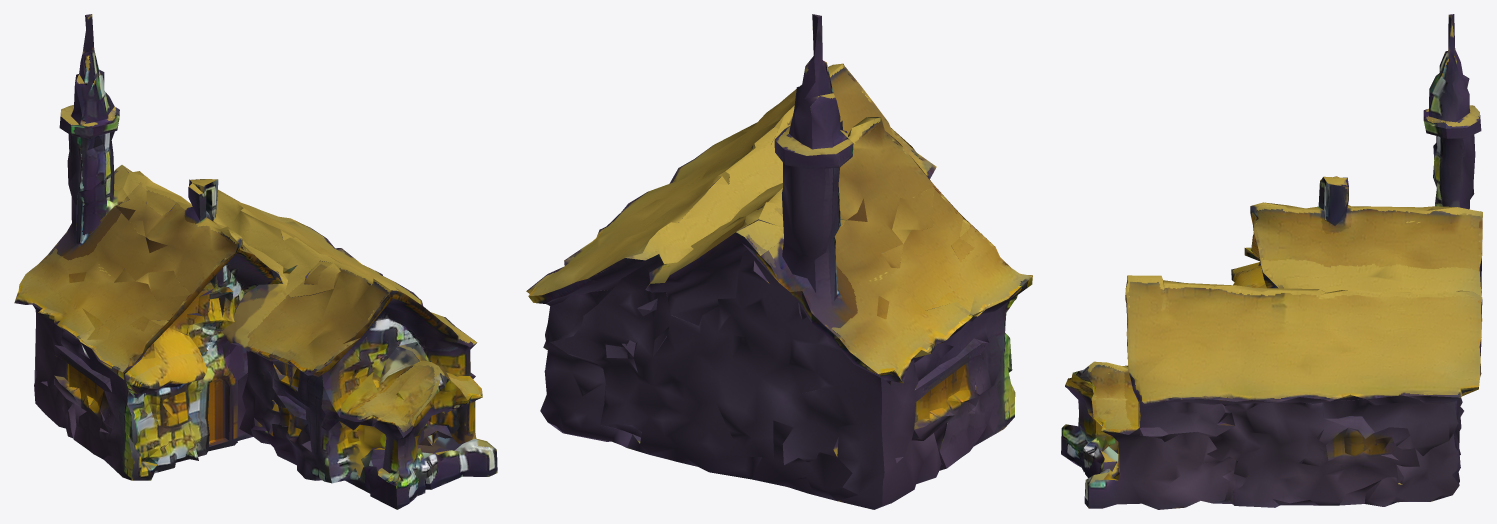
The model's file is cottage_medieval.glb.
3 views of the same model, side by side, from view 1: azimuth 30°, elevation 25°; view 2: azimuth 150°, elevation 25°; view 3: azimuth 270°, elevation 25° (orthographic). The views are drawn at different scales.
Visible parts, largest first — view 1: AssetMesh; view 2: AssetMesh; view 3: AssetMesh.
Boxes of the visible parts, bbox=[...] form: AssetMesh: bbox=[14, 14, 497, 509]; AssetMesh: bbox=[526, 14, 1032, 509]; AssetMesh: bbox=[1061, 14, 1482, 509].
Size of the model in its own units: 3.8 by 4.5 by 4.49.
Materials: 1 (1 with a texture image).
